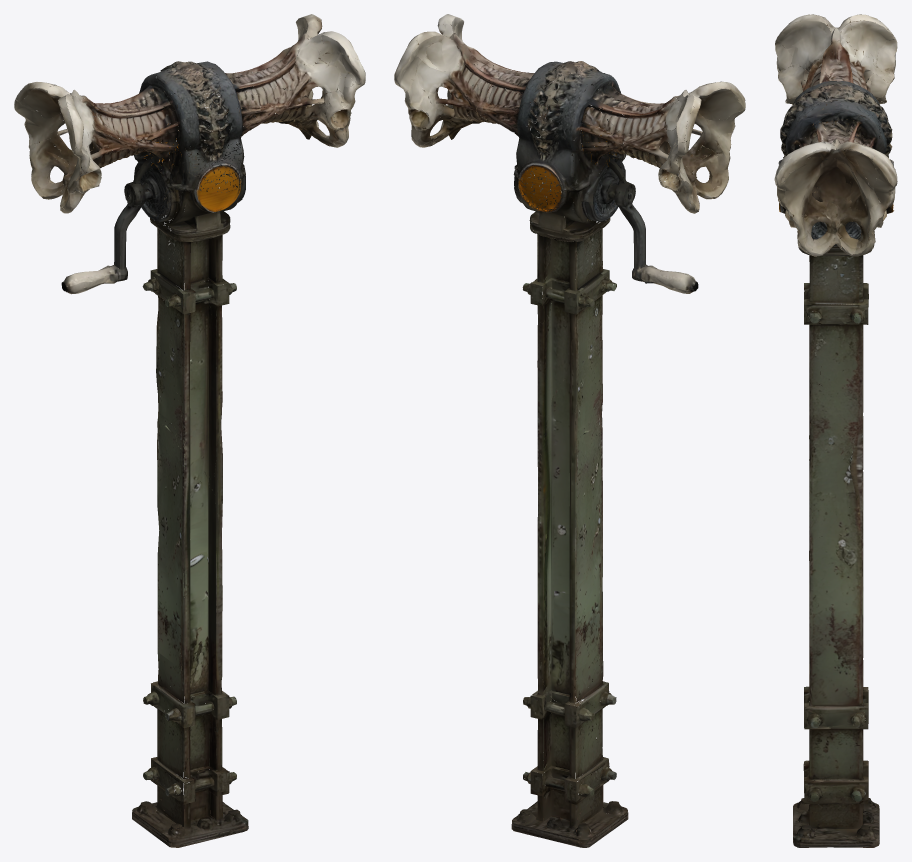
The model's file is vesper_trench_warning_klaxon.glb.
3 renders of one model, left to right at view 1: azimuth 30°, elevation 25°; view 2: azimuth 150°, elevation 25°; view 3: azimuth 270°, elevation 25°, orthographic. The views are drawn at different scales.
Visible parts, largest first — view 1: node_0; view 2: node_0; view 3: node_0.
Boxes of the visible parts, box(x1,y1,x2,y2) form: node_0: box(14, 14, 365, 847); node_0: box(394, 14, 745, 847); node_0: box(774, 14, 897, 847).
Bounding box in the file's own units: 0.4491 × 1.12 × 0.167.
1 material, 1 textured.
